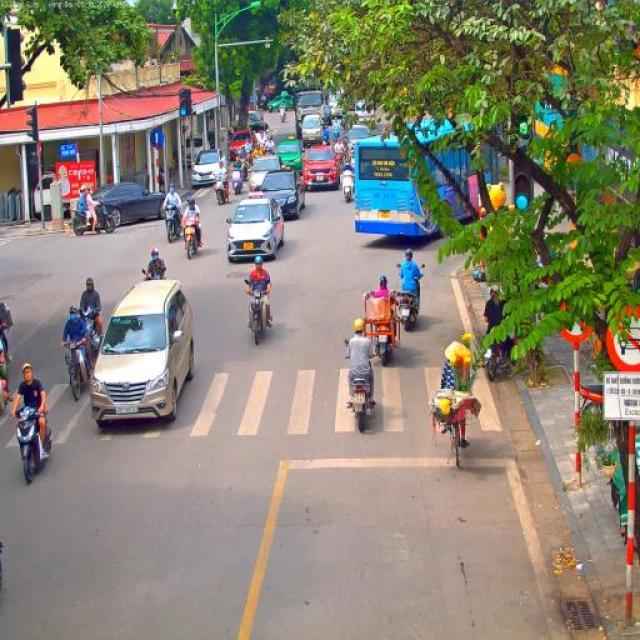bus: (352, 118, 503, 240)
car: (89, 277, 196, 432), (226, 192, 286, 263), (91, 181, 170, 227), (262, 169, 306, 220), (302, 145, 339, 191), (192, 148, 228, 188), (248, 155, 284, 194), (275, 138, 305, 174), (228, 130, 254, 162), (348, 124, 372, 156), (248, 120, 272, 142), (268, 93, 294, 113), (330, 99, 342, 119), (246, 109, 262, 123), (323, 103, 332, 123)
motorcycle: (11, 404, 54, 484), (345, 338, 377, 433), (363, 289, 402, 366), (396, 262, 426, 332), (60, 338, 92, 402), (484, 322, 518, 382), (244, 279, 274, 346), (78, 305, 102, 366), (72, 201, 116, 234), (180, 214, 201, 260), (1, 338, 14, 411), (161, 202, 183, 243), (340, 166, 354, 204), (213, 176, 231, 205), (230, 168, 244, 196), (334, 150, 344, 176), (141, 268, 160, 281), (245, 150, 254, 174), (280, 108, 286, 124), (323, 138, 332, 146)
truck: (293, 84, 326, 141), (300, 113, 324, 151), (353, 103, 376, 126)
